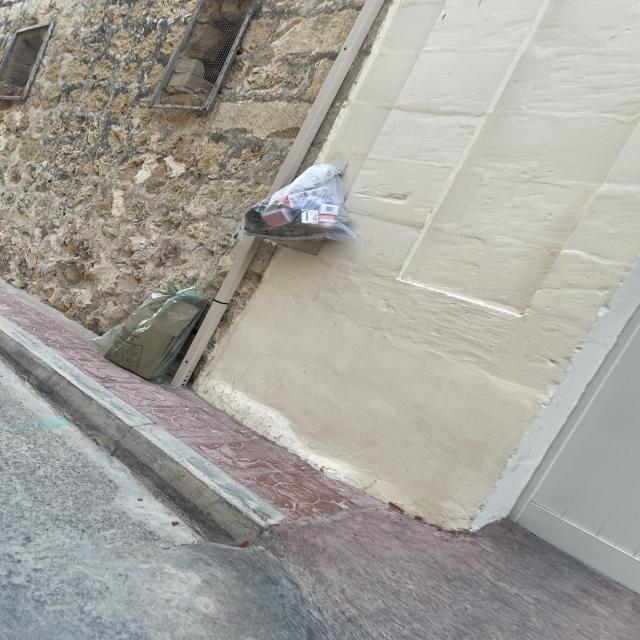grey_bag: (90, 282, 216, 387), (240, 160, 362, 247)
